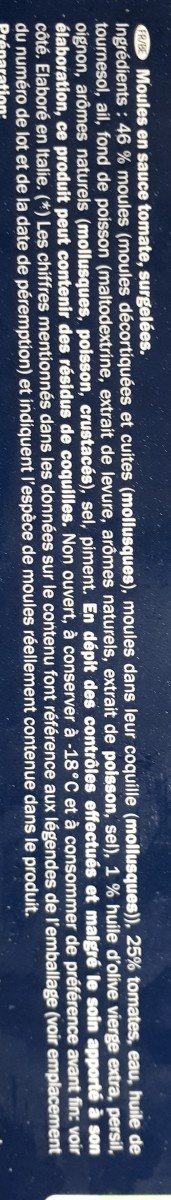ingredients: (22, 13, 145, 1183)
